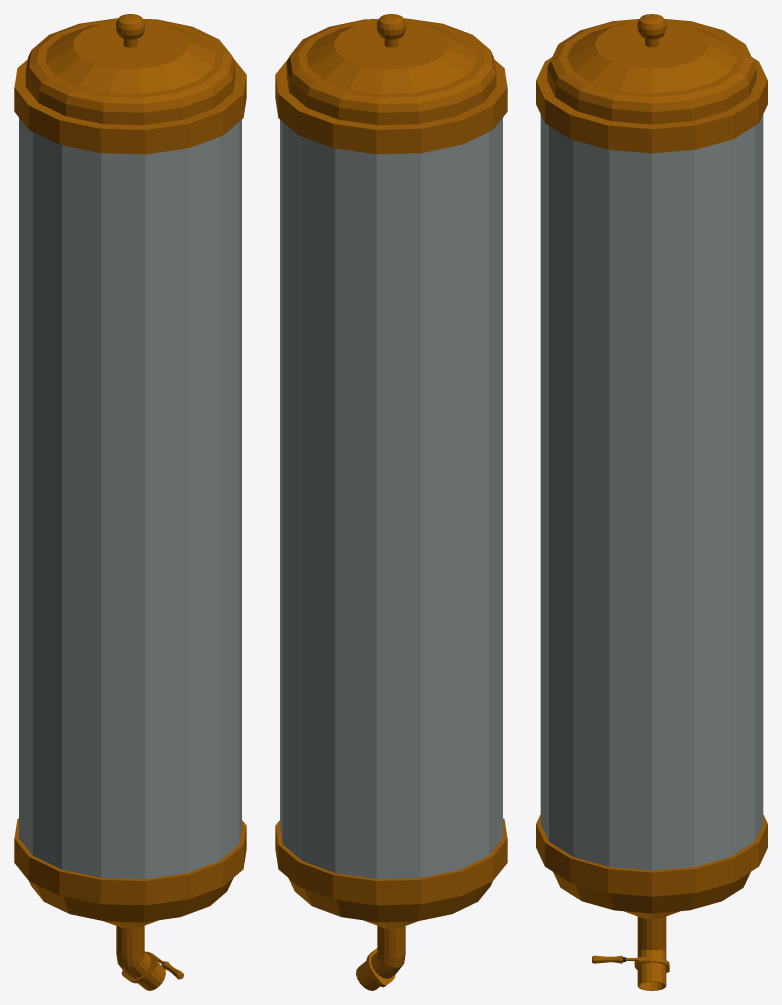
File: silo.glb
The picture shows the model from 3 angles, left to right: view 1: azimuth 30°, elevation 25°; view 2: azimuth 150°, elevation 25°; view 3: azimuth 270°, elevation 25°; orthographic projection.
Visible parts, largest first — view 1: Cylinder.004; view 2: Cylinder.004; view 3: Cylinder.004.
Part boxes in pixels (x1,y1,x2,y2): Cylinder.004: [14, 14, 246, 990]; Cylinder.004: [275, 14, 507, 990]; Cylinder.004: [536, 14, 767, 990].
Size of the model in its own units: 2 by 9.2 by 2.
